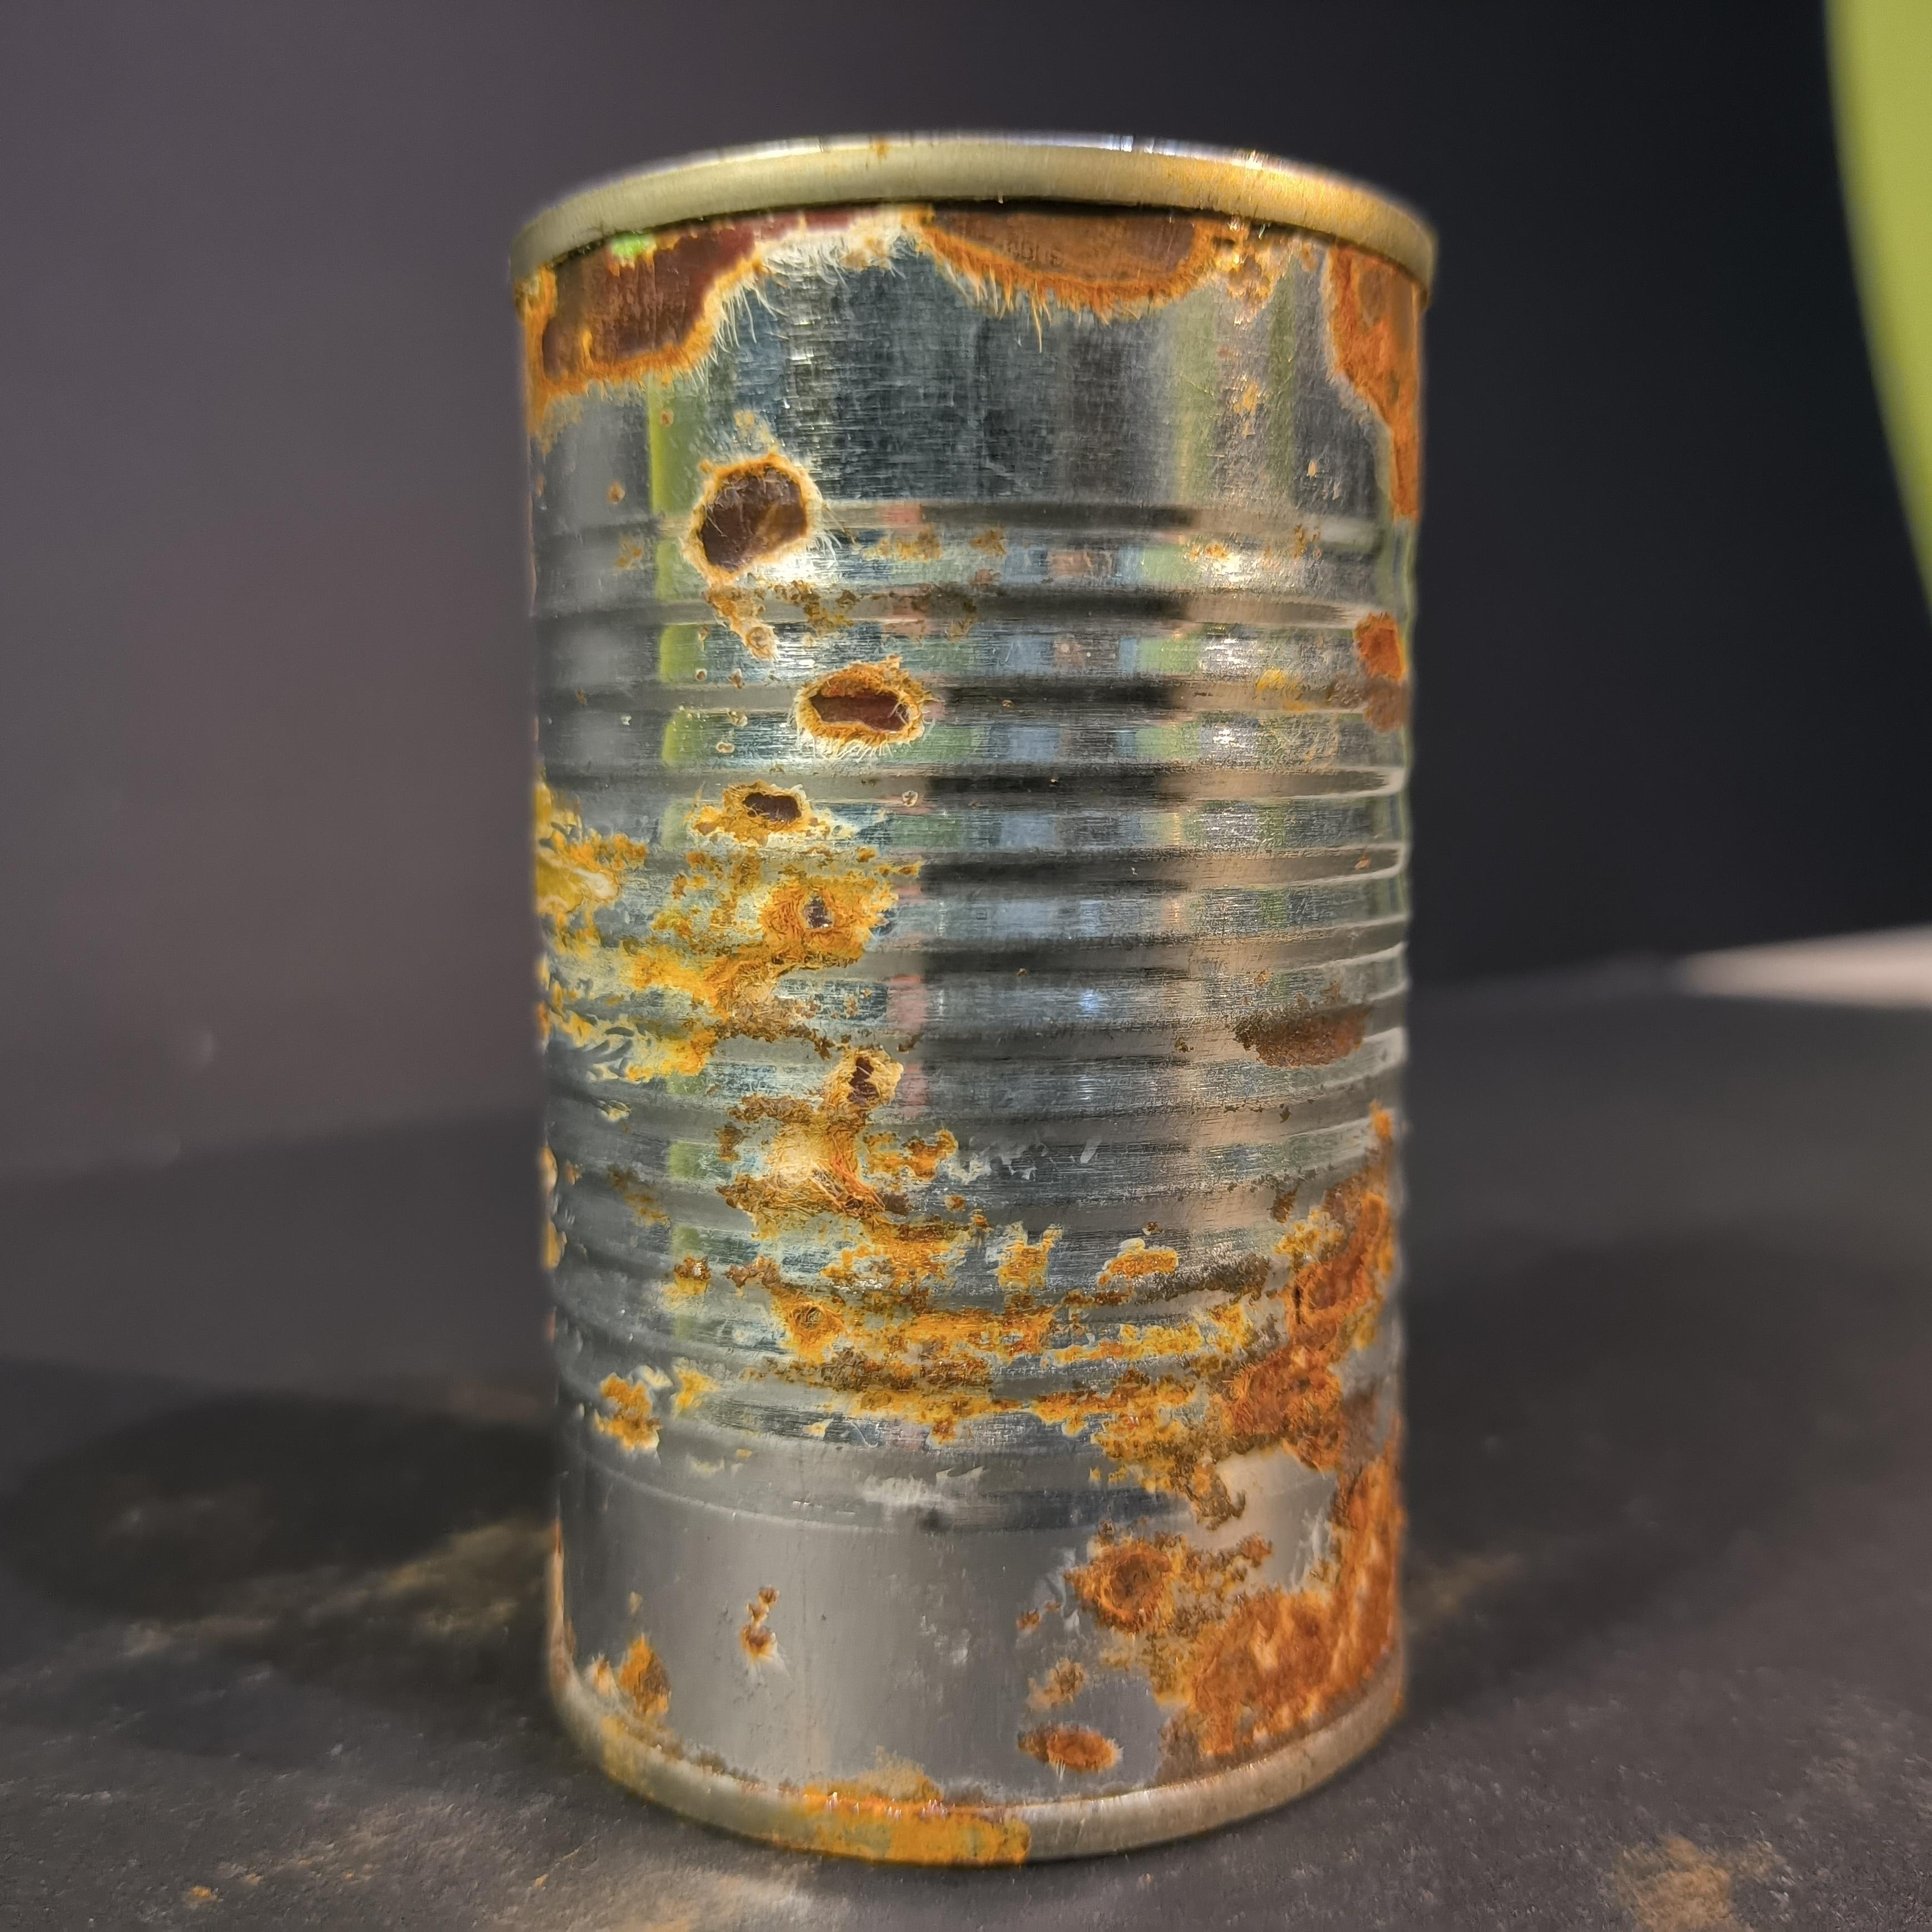Rusted: (472, 92, 1474, 1905)
